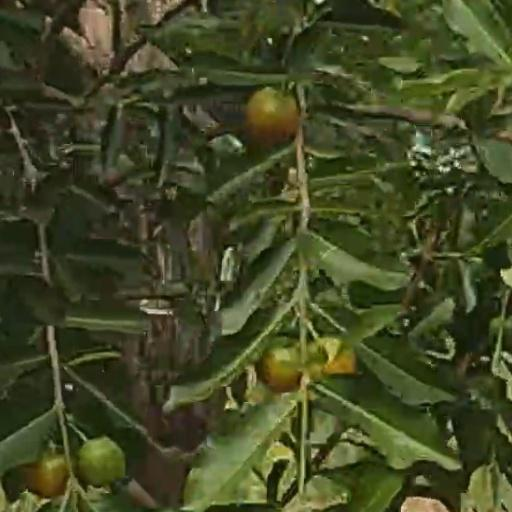acerola_verde: (81, 439, 126, 487)
acerola_vermelha: (246, 88, 295, 146), (256, 347, 303, 391), (34, 452, 72, 494)
